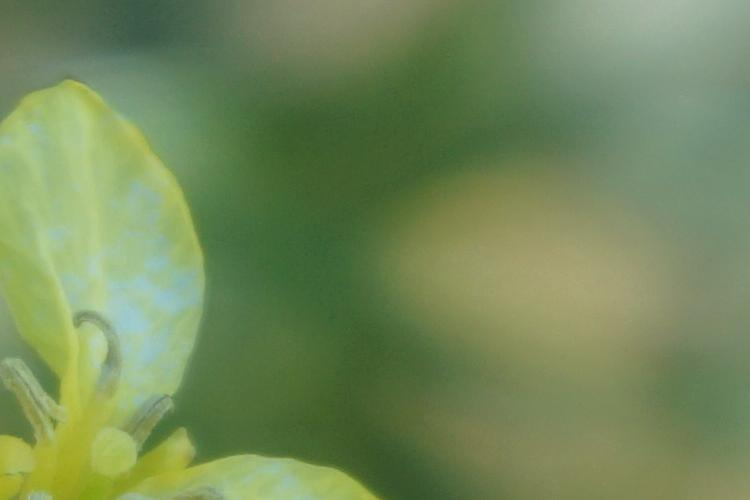yellow: (1, 82, 407, 500)
